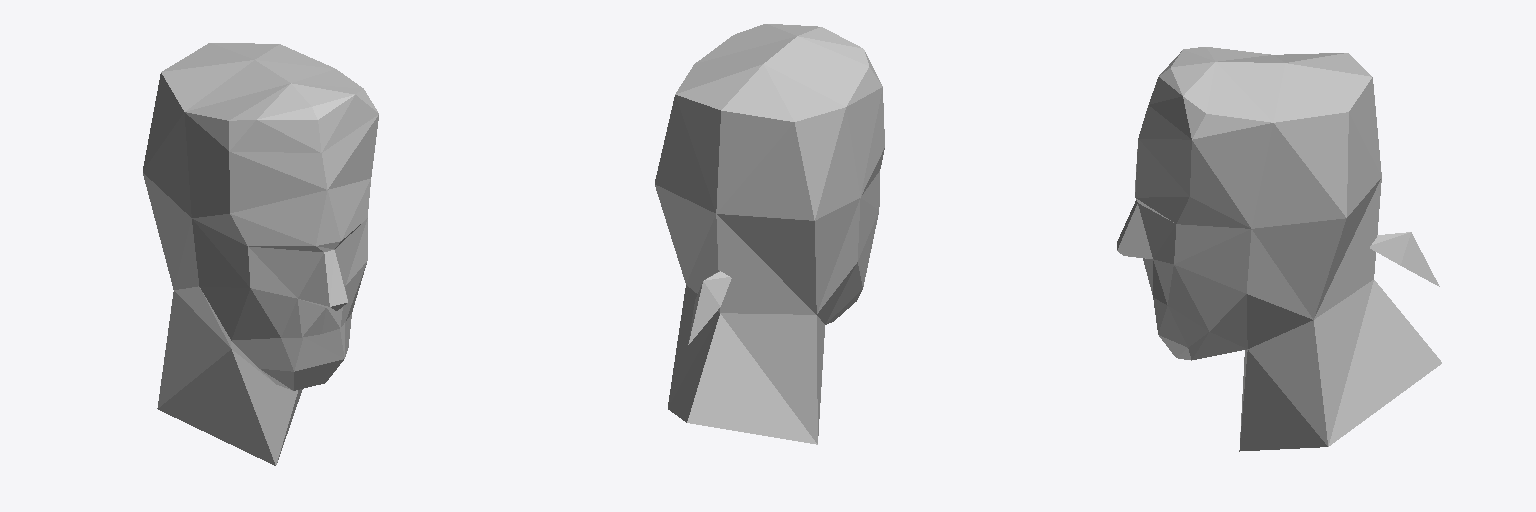
Rendered from gordon_freeman_head.obj.
The picture shows the model from 3 angles: view 1: azimuth 30°, elevation 25°; view 2: azimuth 150°, elevation 25°; view 3: azimuth 270°, elevation 25°; orthographic projection.
Parts seen in each view (by area): view 1: obj1; view 2: obj1; view 3: obj1.
Part boxes in pixels (x1,y1,x2,y2): obj1: (143, 43, 378, 465); obj1: (655, 24, 884, 444); obj1: (1117, 47, 1441, 451).
Bounding box in the file's own units: 5.47 × 12.76 × 9.62.